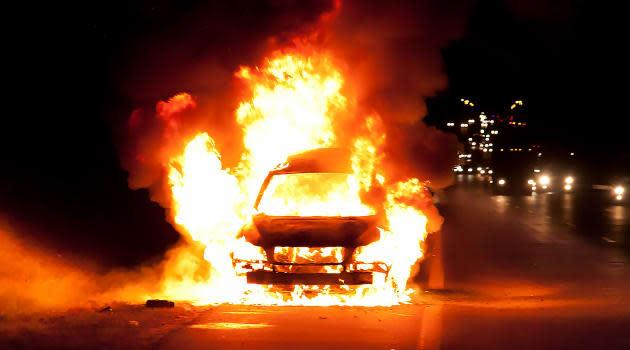fire: (123, 73, 440, 312)
